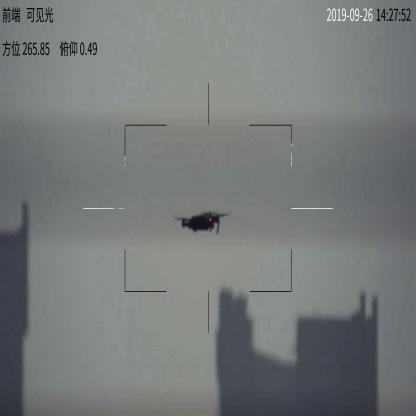uav: (164, 211, 216, 235)
